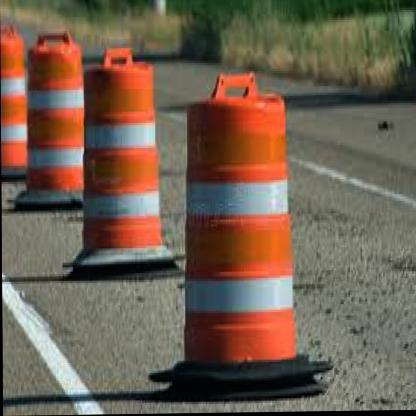obstacle: (181, 92, 300, 377), (73, 62, 173, 254)
